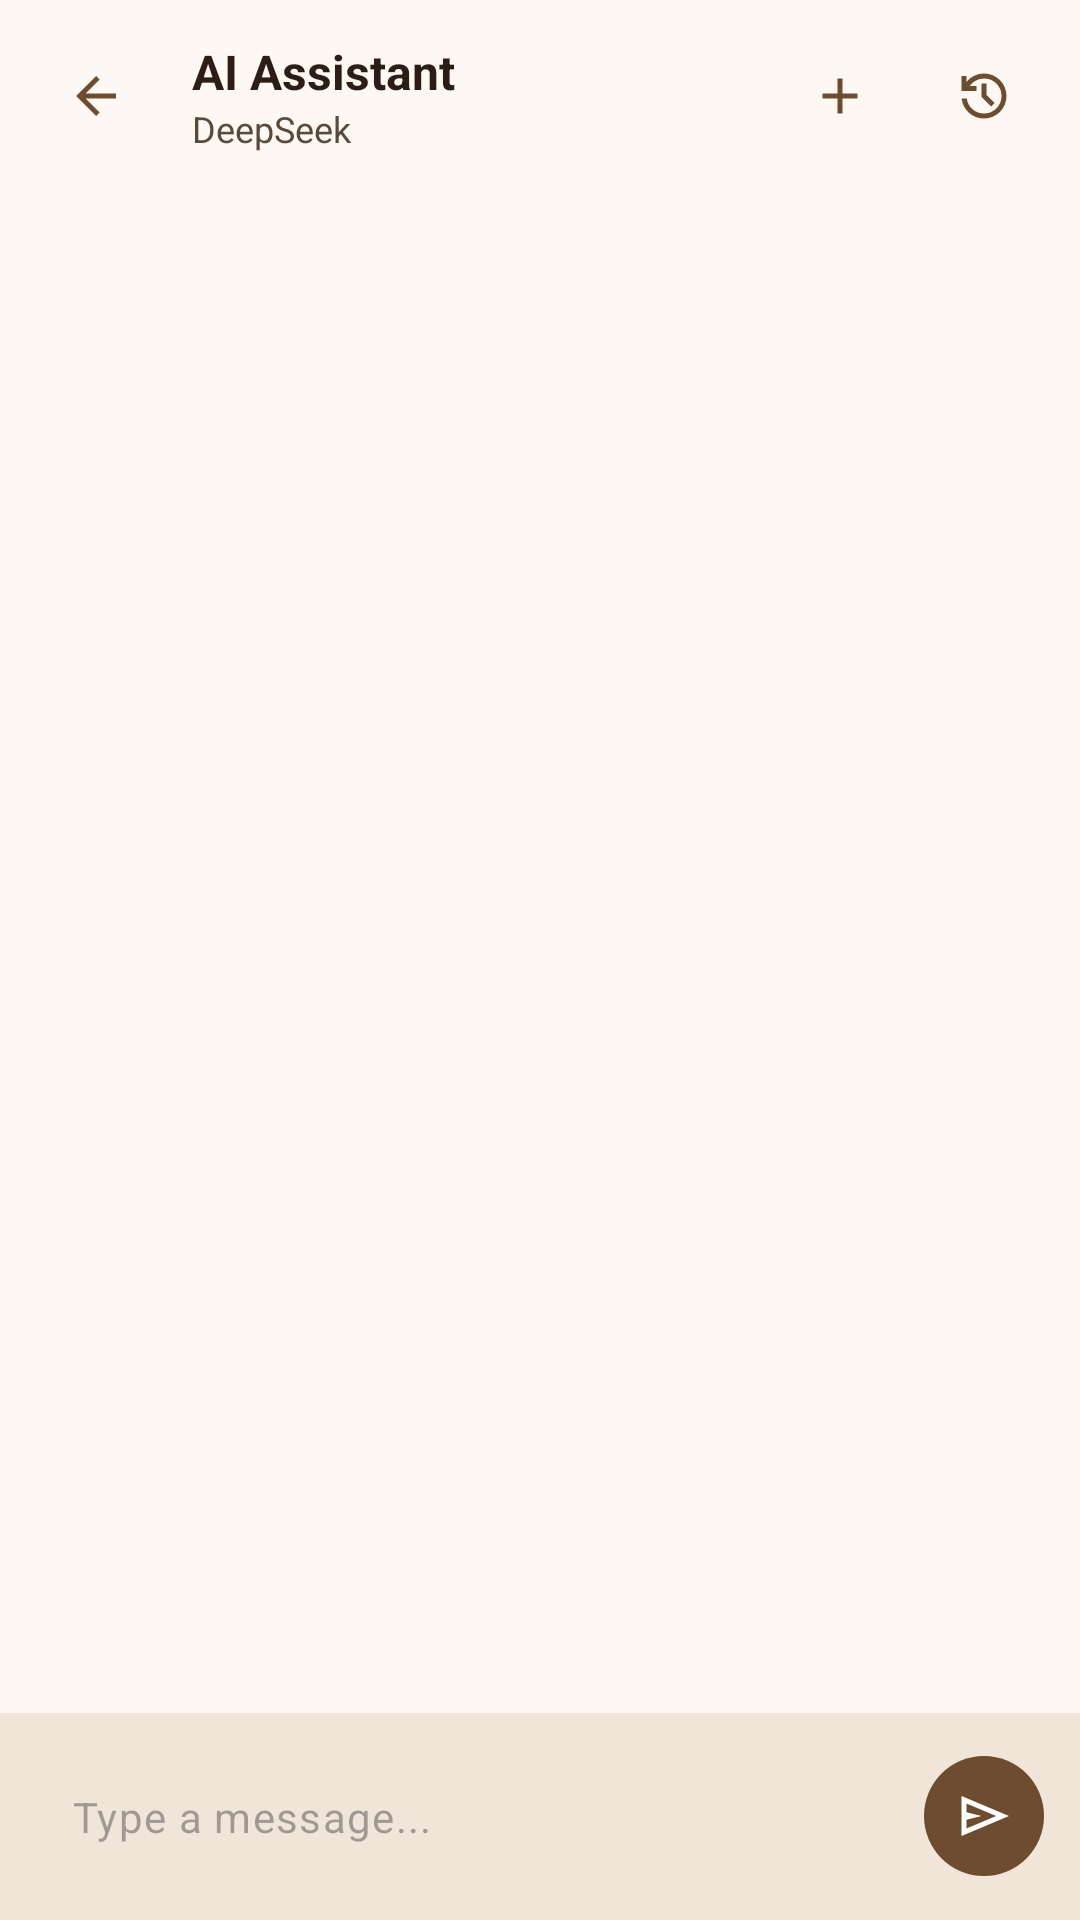

Named icons in this screenshot (1080 x 1920) and their centers, [x,y]:
add: [840,96]
arrow back: [96,96]
history: [984,96]
send: [984,1816]
